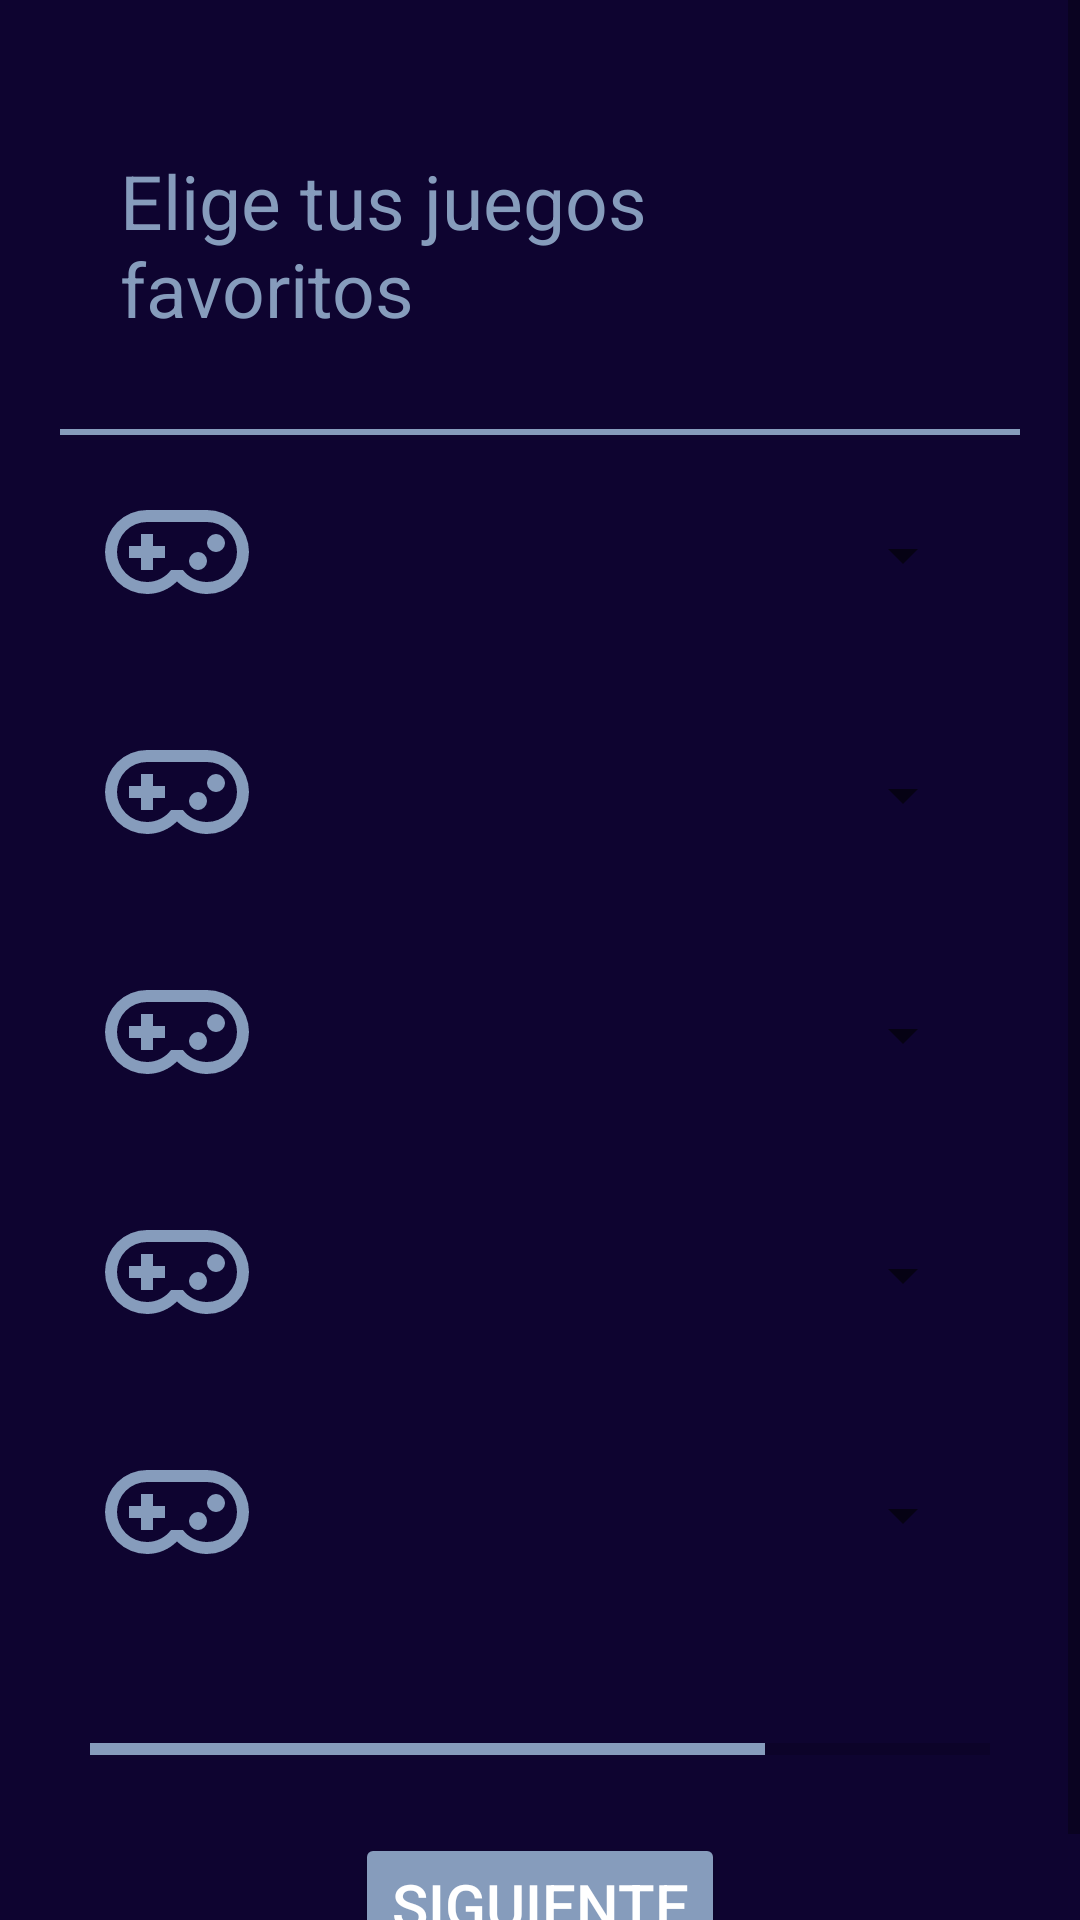

Where icons sit on this 1080px×1920px app screen, as (left=x1, top=y1, right=x2, bottom=y2):
vectorplay: (left=105, top=510, right=249, bottom=594), (left=105, top=750, right=249, bottom=834), (left=105, top=990, right=249, bottom=1074), (left=105, top=1230, right=249, bottom=1314), (left=105, top=1470, right=249, bottom=1554)
